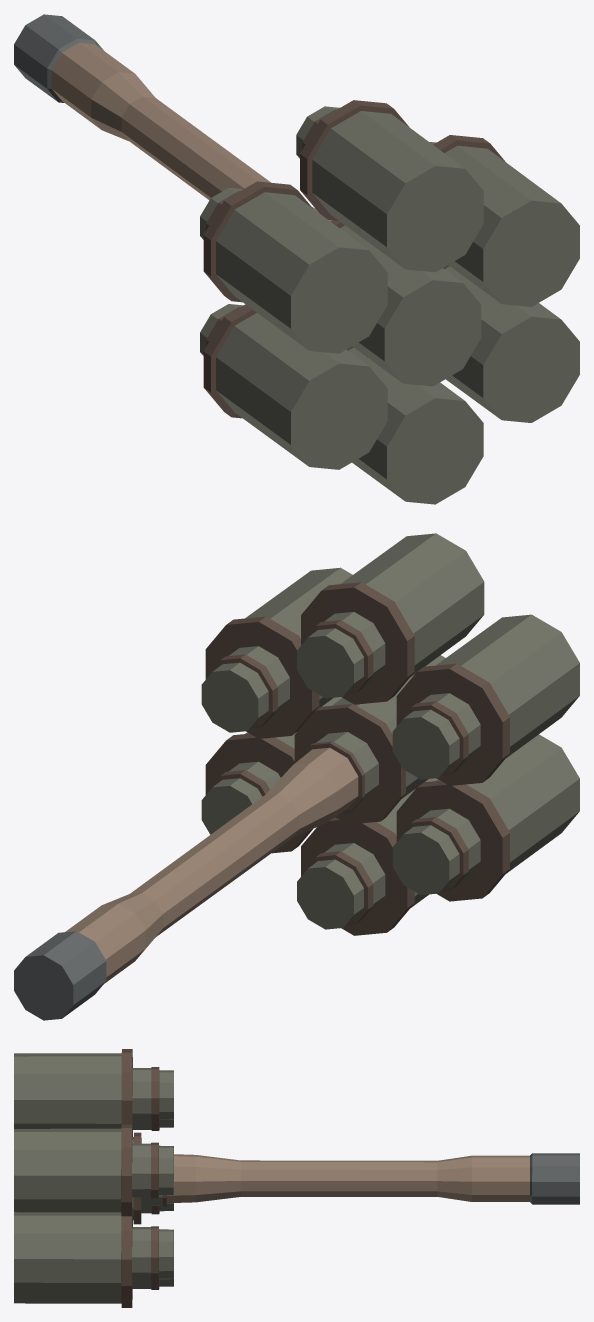
The model's file is SM_MortarBombs_01.fbx.
3 renders of one model, top to bottom at view 1: azimuth 30°, elevation 25°; view 2: azimuth 150°, elevation 25°; view 3: azimuth 270°, elevation 25°, orthographic. The views are drawn at different scales.
Parts seen in each view (by area): view 1: SM_MortarBombs_01; view 2: SM_MortarBombs_01; view 3: SM_MortarBombs_01.
Part boxes in pixels (box(x1,y1,x2,y2)): SM_MortarBombs_01: box(14, 14, 579, 504); SM_MortarBombs_01: box(14, 533, 579, 1020); SM_MortarBombs_01: box(14, 1049, 579, 1307).
Bounding box in the file's own units: 7.99 × 8.93 × 18.18.
1 material, 1 textured.
